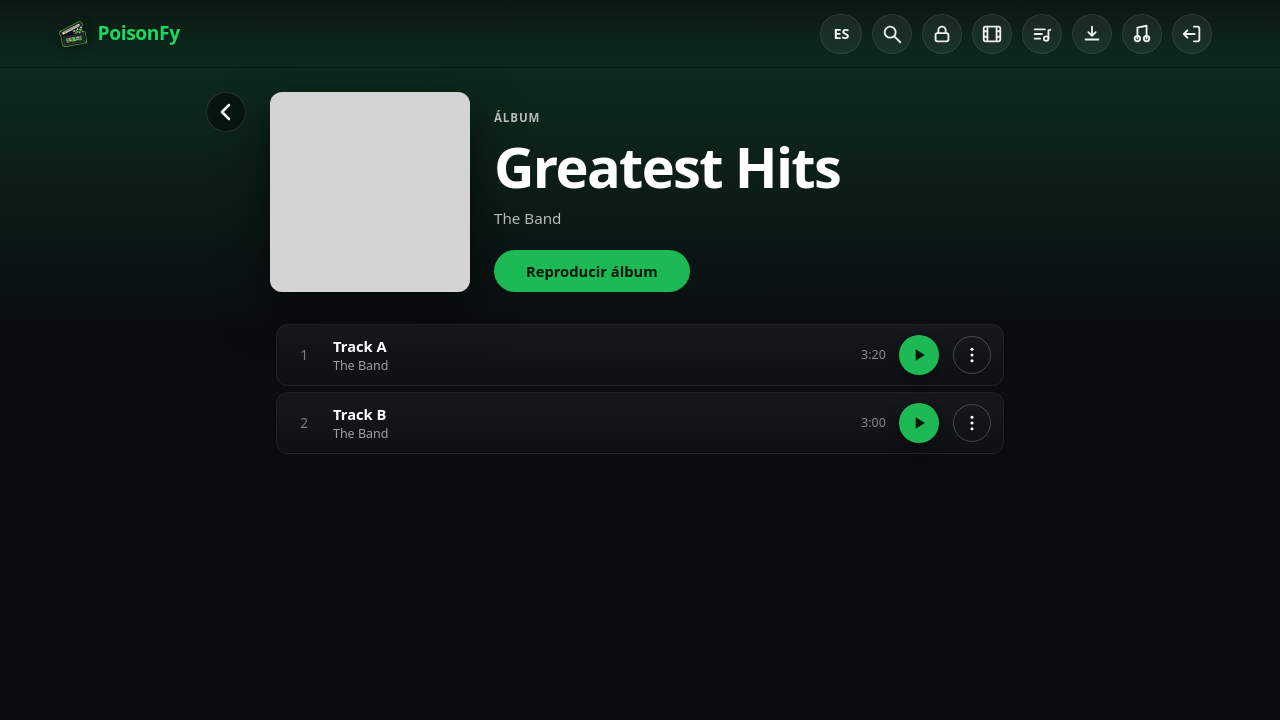
it: AlbumScreen (Música — Slice 3) › a track title links to its detail page while the play button still plays it
Expected: the text "Track A" is shown, [333,336,387,356]
// The separate play button still plays the track (bar appears with Track B).
Click the button named "Reproducir Track B".
click(919, 423)  # box [899,403,939,443]
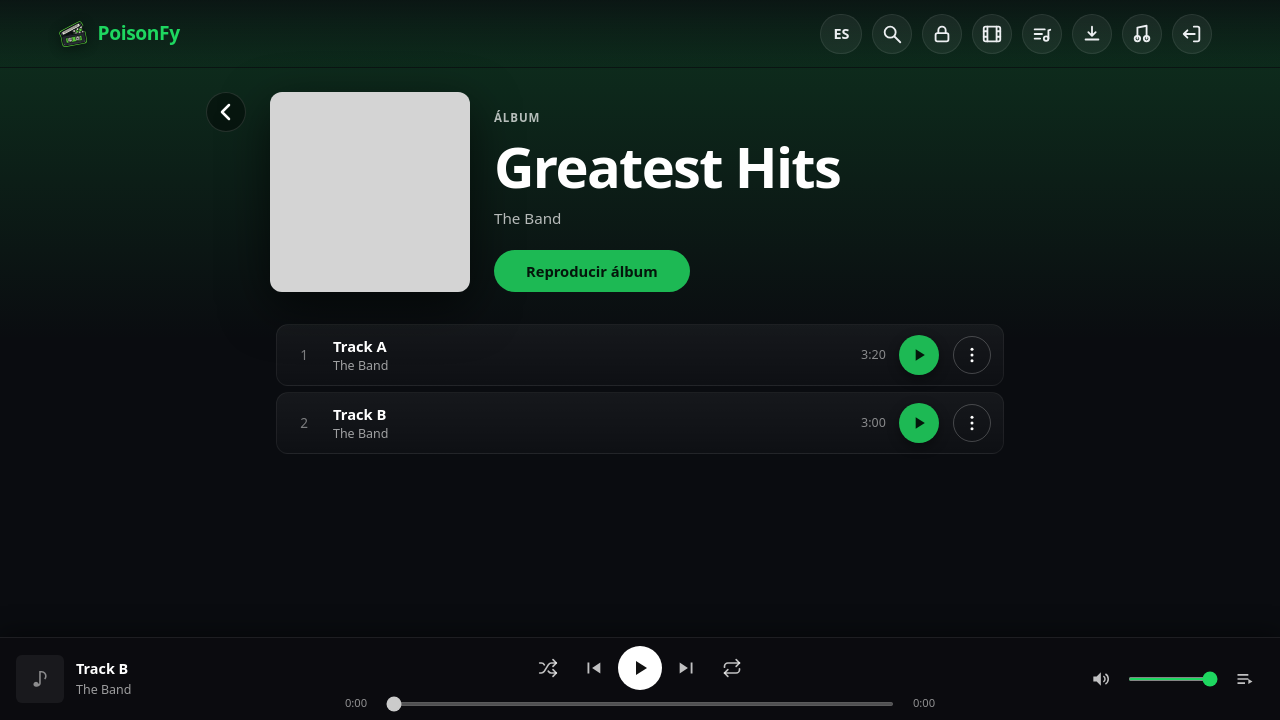
Now the 2nd text "Track B" is shown, box [76,659,128,678]
